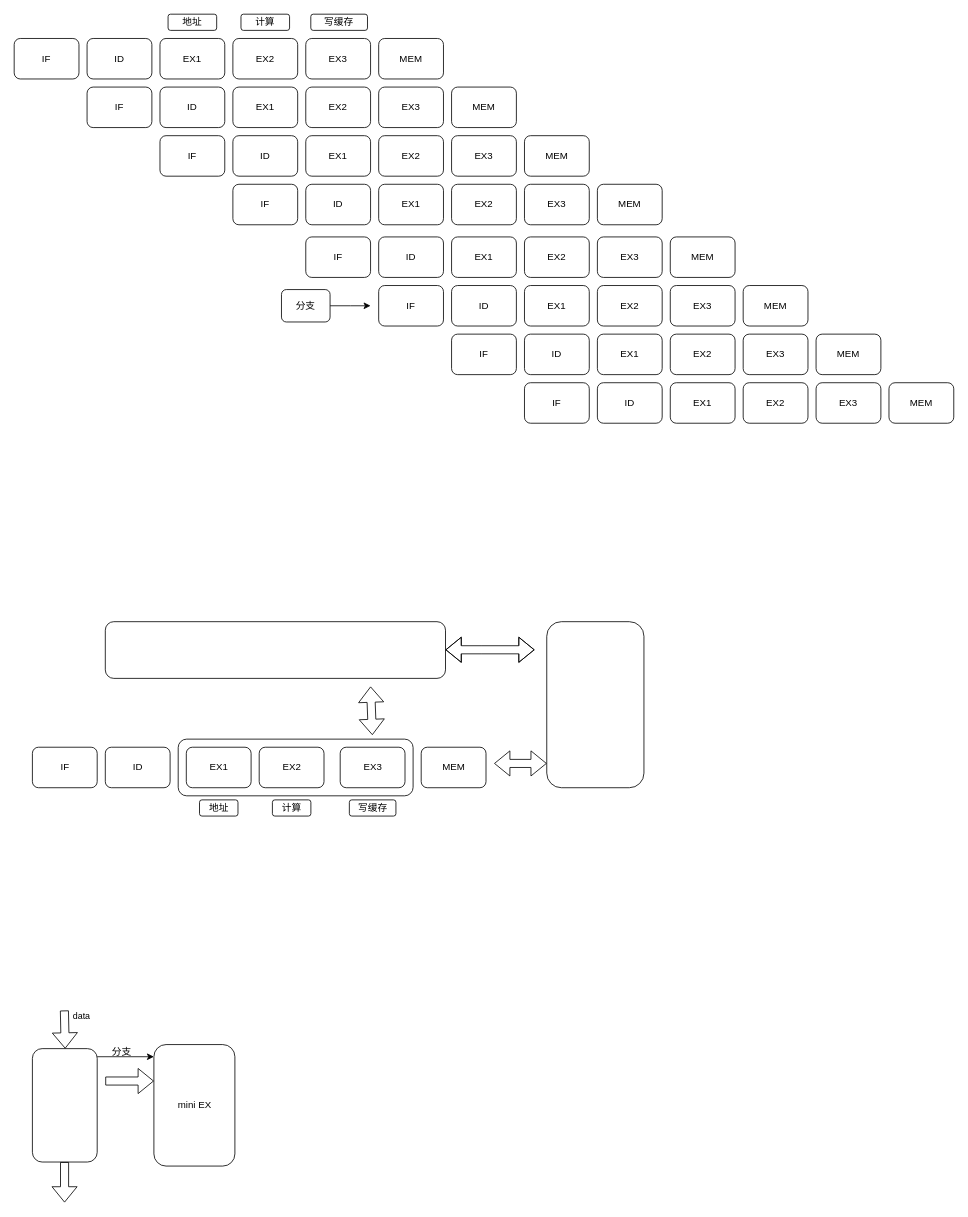
Image size: 968x1217. Some labels were removed from this diagram. Each missing label, with the centre of its shape:
"pool" goes at [64,1105].
"store buffer" goes at [275,649].
"外部" goes at [595,704].
